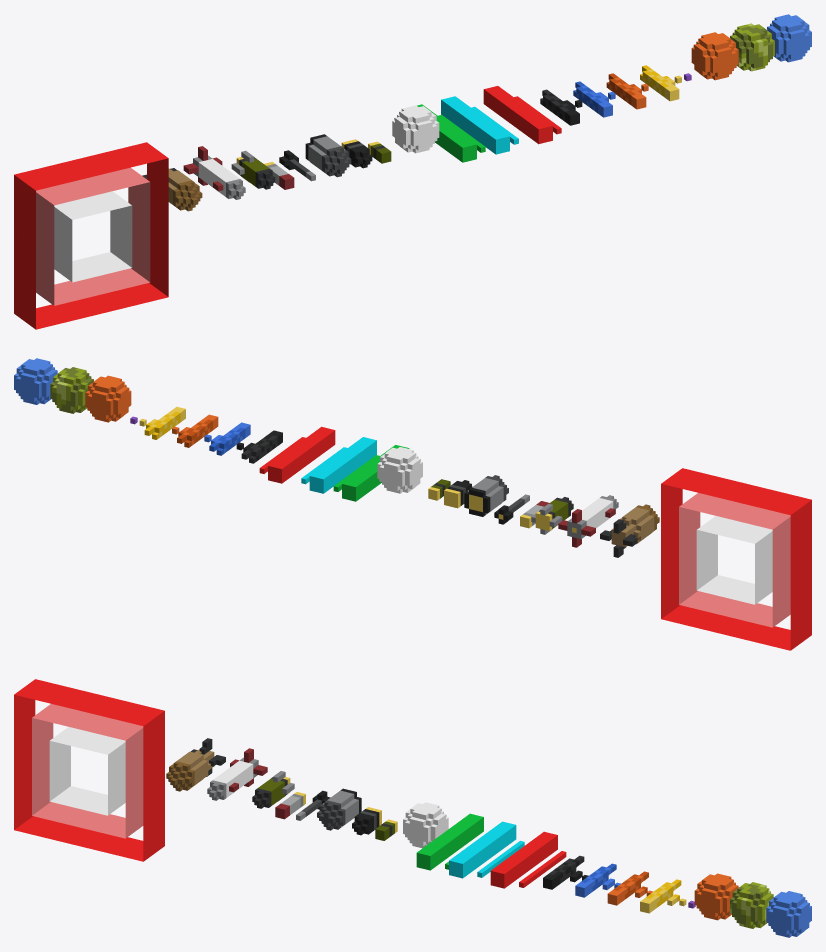
The model's file is Projectiles.FBX.
3 views of the same model, one above another, from view 1: azimuth 30°, elevation 25°; view 2: azimuth 150°, elevation 25°; view 3: azimuth 330°, elevation 25° (orthographic). The views are drawn at different scales.
Parts seen in each view (by area): view 1: DeathRay, LaserRedBig, LaserBlueBig, Ball, FireBall, EnegyBall, ToxicBall, MissileExtraBig, GrenadeBig, BombMedium, LaserGreenBig, MissileBig (+5 smaller); view 2: DeathRay, LaserRedBig, LaserBlueBig, FireBall, Ball, BombMedium, EnegyBall, ToxicBall, MissileExtraBig, GrenadeBig, LaserGreenBig, MissileBig (+5 smaller); view 3: DeathRay, LaserBlueBig, LaserRedBig, LaserGreenBig, EnegyBall, BombMedium, Ball, ToxicBall, FireBall, MissileExtraBig, GrenadeBig, MissileBig (+6 smaller).
Boxes of the visible parts, x1=… form: DeathRay: x1=14, y1=142, x2=168, y2=329; LaserRedBig: x1=483, y1=86, x2=552, y2=144; LaserBlueBig: x1=441, y1=96, x2=509, y2=154; Ball: x1=392, y1=105, x2=439, y2=153; FireBall: x1=691, y1=32, x2=738, y2=80; EnegyBall: x1=767, y1=14, x2=811, y2=62; ToxicBall: x1=730, y1=23, x2=774, y2=71; MissileExtraBig: x1=183, y1=146, x2=245, y2=199; GrenadeBig: x1=305, y1=134, x2=351, y2=177; BombMedium: x1=142, y1=168, x2=202, y2=211; LaserGreenBig: x1=417, y1=104, x2=476, y2=162; MissileBig: x1=231, y1=150, x2=275, y2=189; DeathRay: x1=661, y1=468, x2=811, y2=650; LaserRedBig: x1=268, y1=426, x2=335, y2=483; LaserBlueBig: x1=309, y1=437, x2=376, y2=493; FireBall: x1=85, y1=375, x2=131, y2=422; Ball: x1=377, y1=447, x2=422, y2=493; BombMedium: x1=600, y1=504, x2=659, y2=557; EnegyBall: x1=14, y1=358, x2=57, y2=404; ToxicBall: x1=50, y1=367, x2=93, y2=413; MissileExtraBig: x1=558, y1=495, x2=618, y2=547; GrenadeBig: x1=464, y1=475, x2=508, y2=516; LaserGreenBig: x1=342, y1=445, x2=409, y2=501; MissileBig: x1=531, y1=497, x2=573, y2=534; DeathRay: x1=14, y1=679, x2=164, y2=861; LaserBlueBig: x1=449, y1=821, x2=516, y2=878; LaserRedBig: x1=490, y1=831, x2=557, y2=888; LaserGreenBig: x1=416, y1=813, x2=483, y2=870; EnegyBall: x1=766, y1=891, x2=811, y2=937; BombMedium: x1=166, y1=738, x2=225, y2=791; Ball: x1=403, y1=802, x2=448, y2=848; ToxicBall: x1=730, y1=882, x2=773, y2=928; FireBall: x1=694, y1=873, x2=738, y2=920; MissileExtraBig: x1=207, y1=748, x2=267, y2=800; GrenadeBig: x1=317, y1=788, x2=361, y2=830; MissileBig: x1=252, y1=771, x2=294, y2=808.
Bounding box in the file's own units: 20.83 × 3.5 × 2.5.
